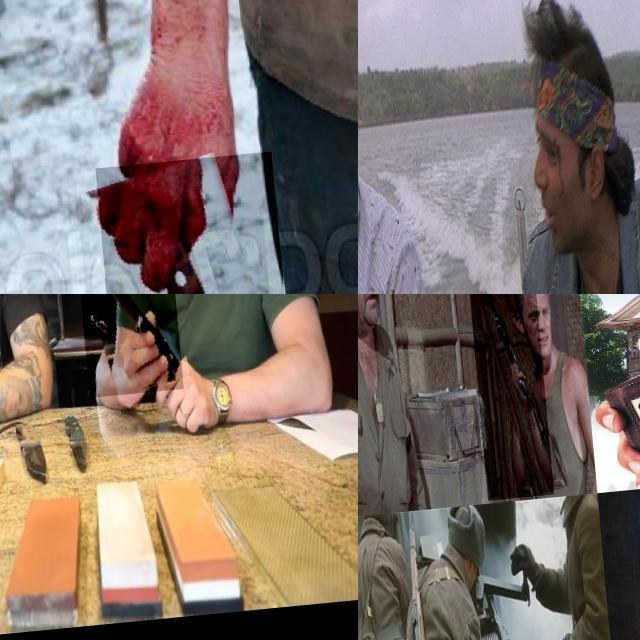-: (92, 159, 294, 294), (68, 294, 176, 404)
gun-knife-thesis - v11 Yolov5 augmented: (461, 294, 548, 504), (394, 511, 444, 640)
